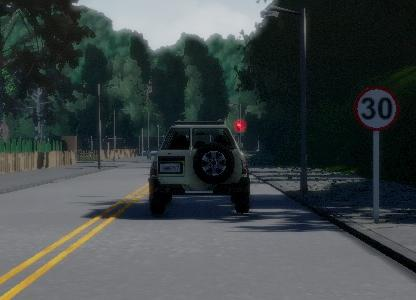Speed_30: (351, 84, 402, 134)
